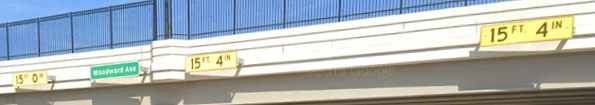0: (30, 72, 39, 84)
1: (487, 25, 498, 46), (187, 56, 195, 70), (14, 74, 20, 87)
4: (532, 19, 549, 42), (214, 53, 225, 68)
5: (495, 23, 509, 44), (193, 56, 202, 71), (18, 71, 24, 87)
overheadsign: (478, 16, 574, 52), (186, 49, 241, 75), (12, 68, 50, 87)
